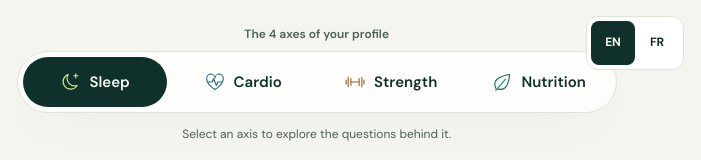
links each health topic to its explanatory chapter without displaying personal scores
Expected: the number of links is 4, x1=23 y1=57 x2=167 y2=107; x1=204 y1=71 x2=282 y2=93; x1=344 y1=71 x2=437 y2=93; x1=491 y1=71 x2=586 y2=93
Expected: the link "Sleep" is shown, x1=23 y1=57 x2=167 y2=107
Click the button with aria-label "Français".
click(657, 43)  # box x1=635 y1=21 x2=679 y2=65
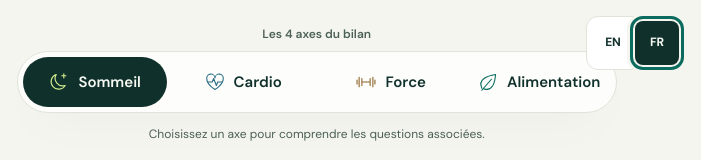
Expected: the navigation bar named "Les 4 axes du bilan" is shown, x1=17 y1=51 x2=617 y2=113
Expected: the link "Sommeil" is shown, x1=23 y1=57 x2=167 y2=107
